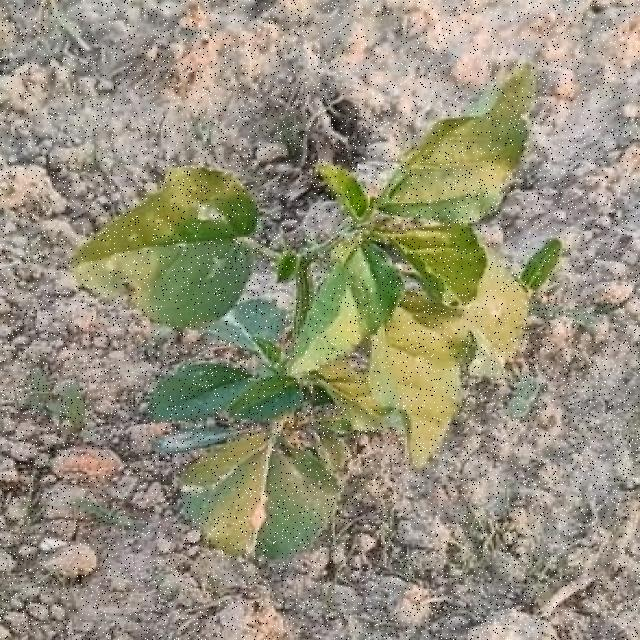weed: (72, 65, 560, 555)
